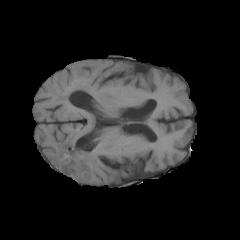glioma: (52, 81, 99, 178)
